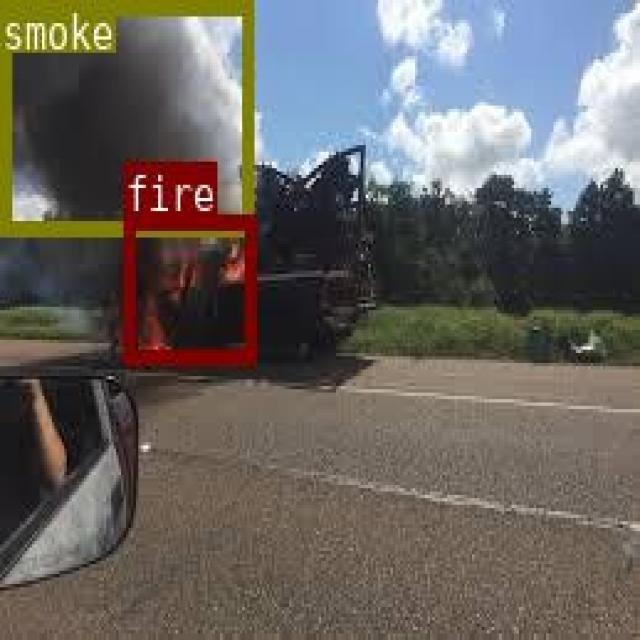fire: (123, 212, 253, 360)
smoke: (0, 0, 250, 231)
